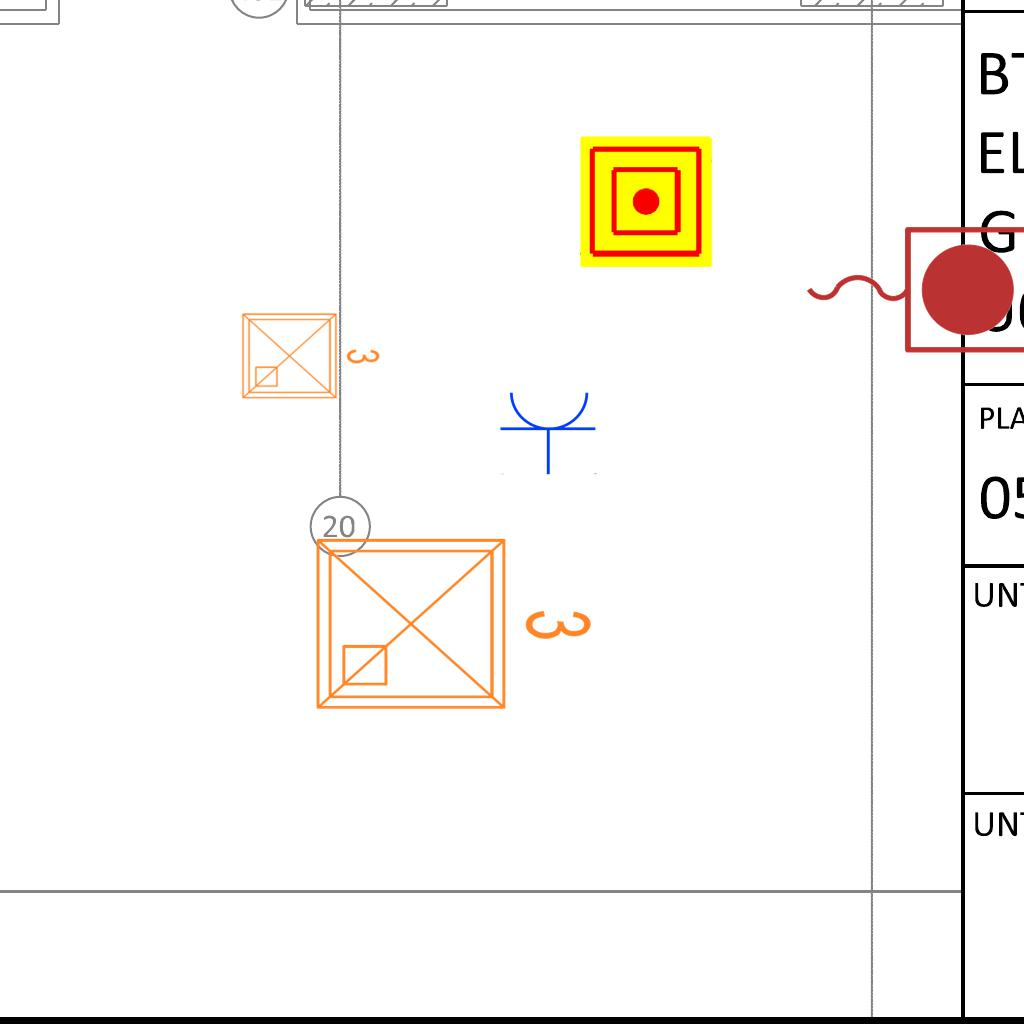Einbaudownlights_LED_Konferenzraeume: (302, 516, 602, 724), (235, 302, 385, 406)
NAM-Nichtautomatischer_Melder: (580, 136, 712, 268)
Schukosteckdose_einfach: (499, 388, 599, 475)
Zugtaster: (796, 216, 1024, 360)
